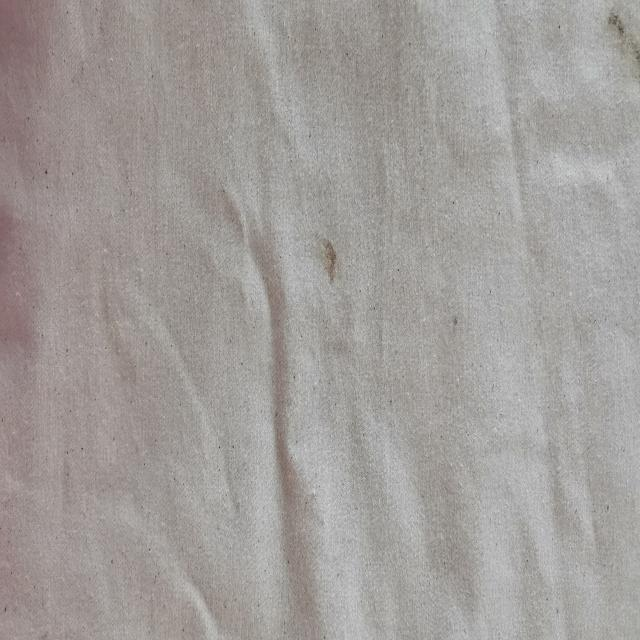taaaches: (604, 0, 640, 77), (315, 217, 340, 292)
